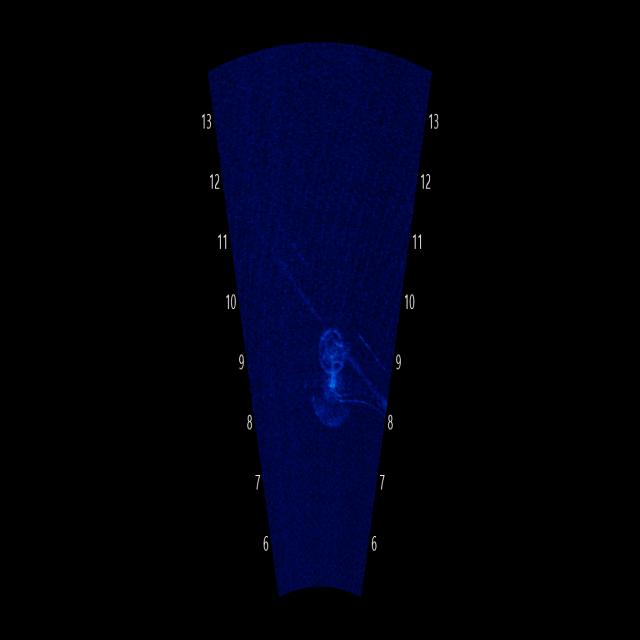circle: (303, 292, 360, 391)
